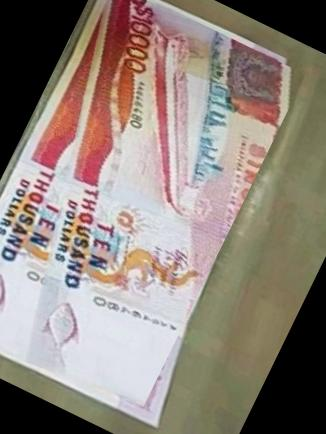10000SingaporeDollar: (0, 0, 304, 418)
